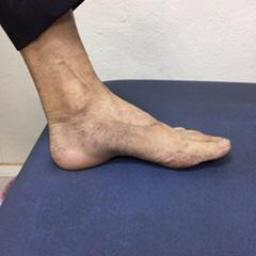Medial View -Left Foot-: (28, 78, 236, 182)
